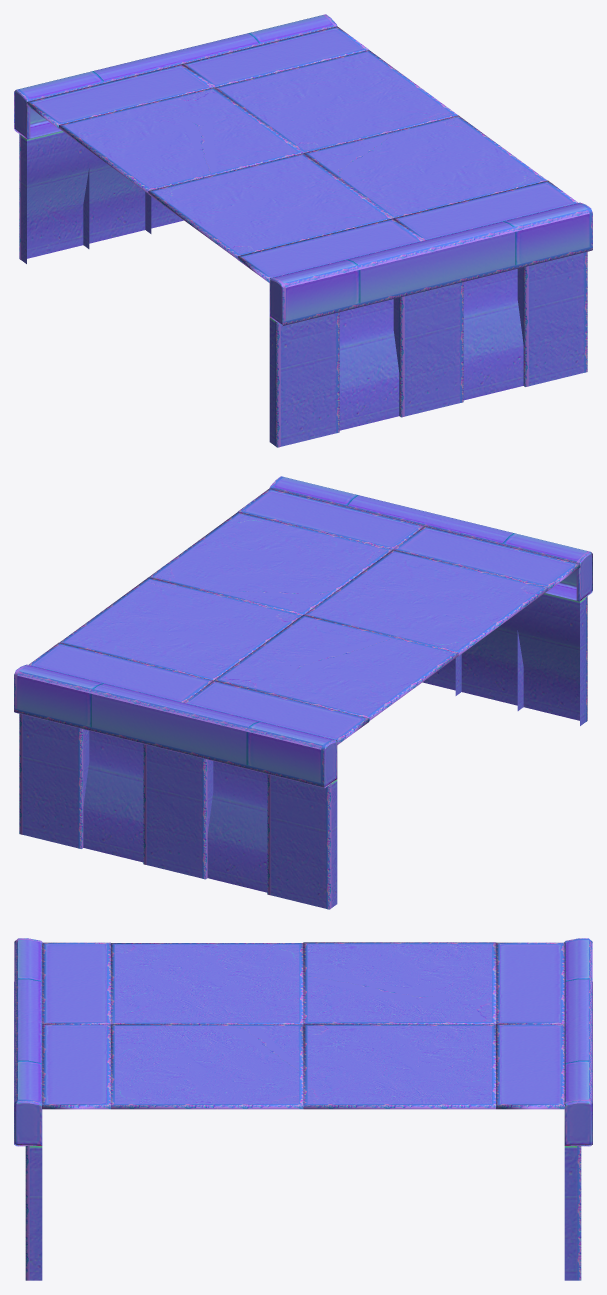
File: Wharf30m_Mid_20m_01.fbx
The picture shows the model from 3 angles, top to bottom: view 1: azimuth 30°, elevation 25°; view 2: azimuth 150°, elevation 25°; view 3: azimuth 270°, elevation 25°; orthographic projection. The views are drawn at different scales.
Parts seen in each view (by area): view 1: Wharf30m_Mid_20m_01_LOD0, PortFront_20m_02_Decal_LOD0; view 2: Wharf30m_Mid_20m_01_LOD0, PortFront_20m_02_Decal_LOD0; view 3: Wharf30m_Mid_20m_01_LOD0, PortFront_20m_02_Decal_LOD0.
Boxes of the visible parts, x1=… form: Wharf30m_Mid_20m_01_LOD0: x1=15, y1=15, x2=589, y2=446; PortFront_20m_02_Decal_LOD0: x1=14, y1=14, x2=592, y2=447; Wharf30m_Mid_20m_01_LOD0: x1=17, y1=477, x2=591, y2=908; PortFront_20m_02_Decal_LOD0: x1=14, y1=476, x2=592, y2=909; Wharf30m_Mid_20m_01_LOD0: x1=14, y1=940, x2=592, y2=1280; PortFront_20m_02_Decal_LOD0: x1=14, y1=938, x2=592, y2=1280.
Size of what is drawn, in the model's own units: 2003 by 1026 by 3004.
